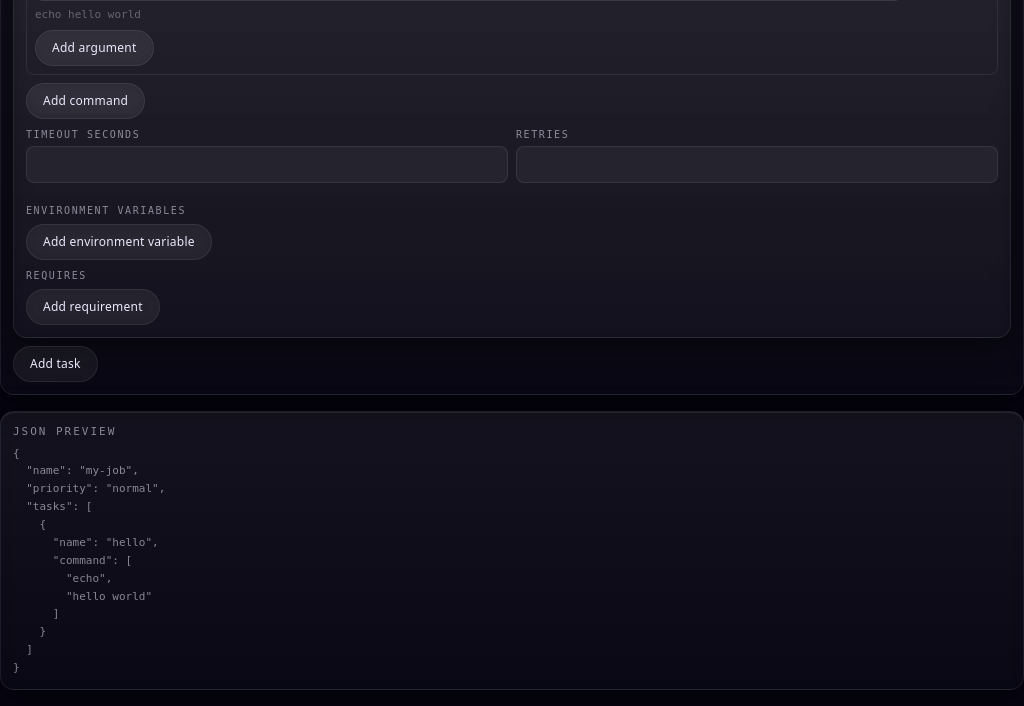
removing a still-unnamed task announces its positional fallback
(page scrolled)
Click the button "Add task": {"x": 55, "y": 364} [13,346,98,382]
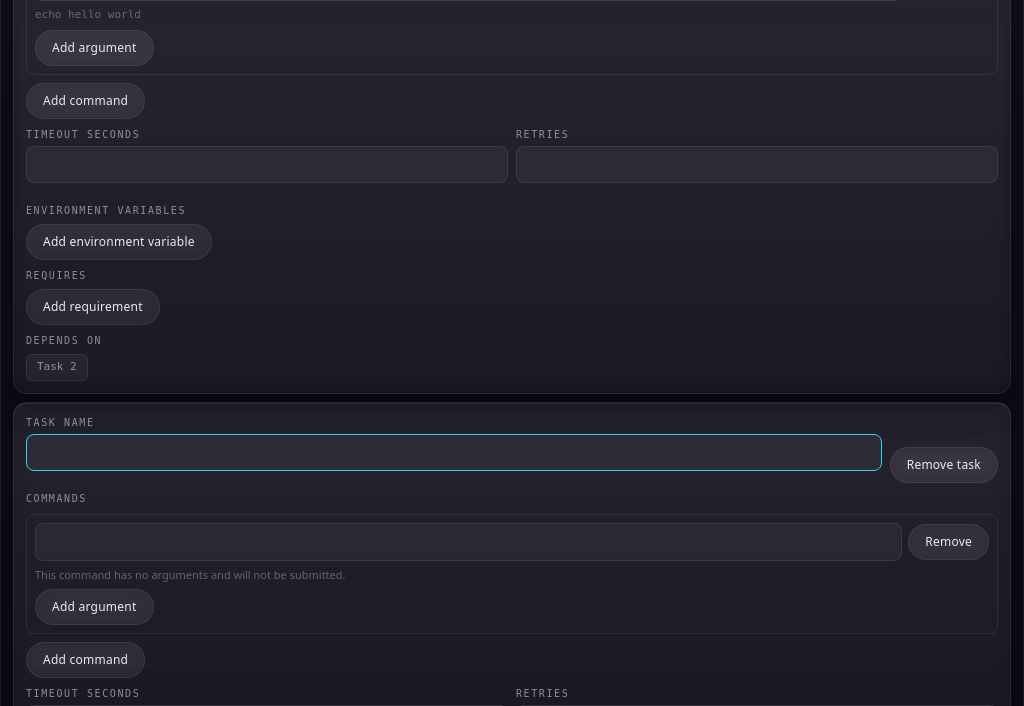
Click the button with aria-label "Remove task 2": {"x": 944, "y": 465} [890,447,998,483]
(page scrolled)
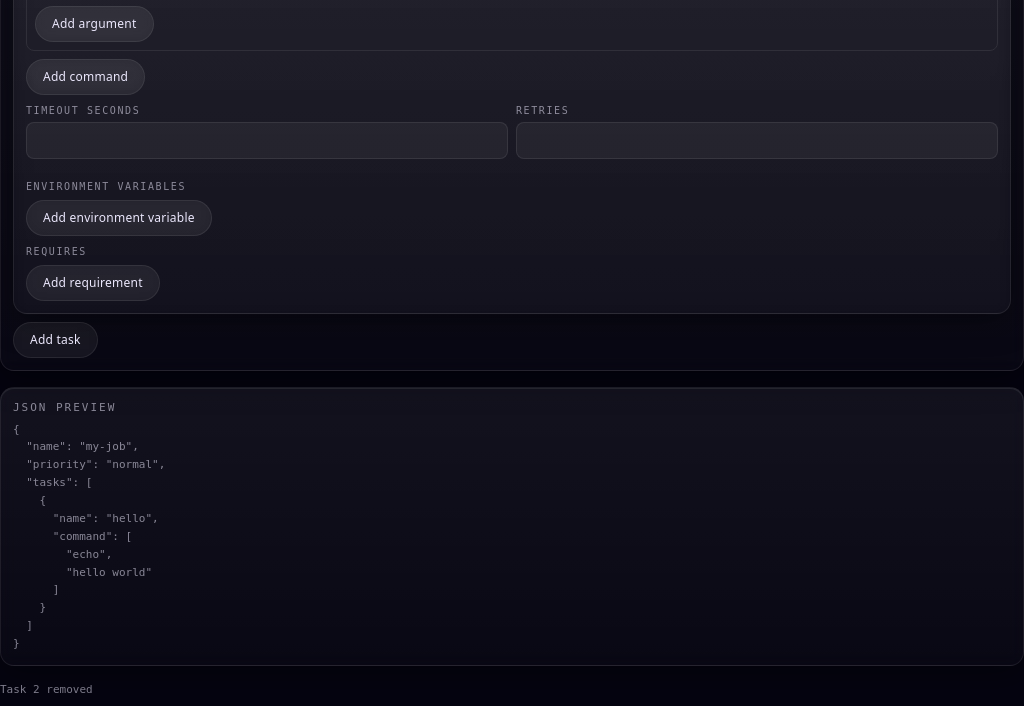
Expected: the message reads "Task 2 removed", [0,683,93,696]
